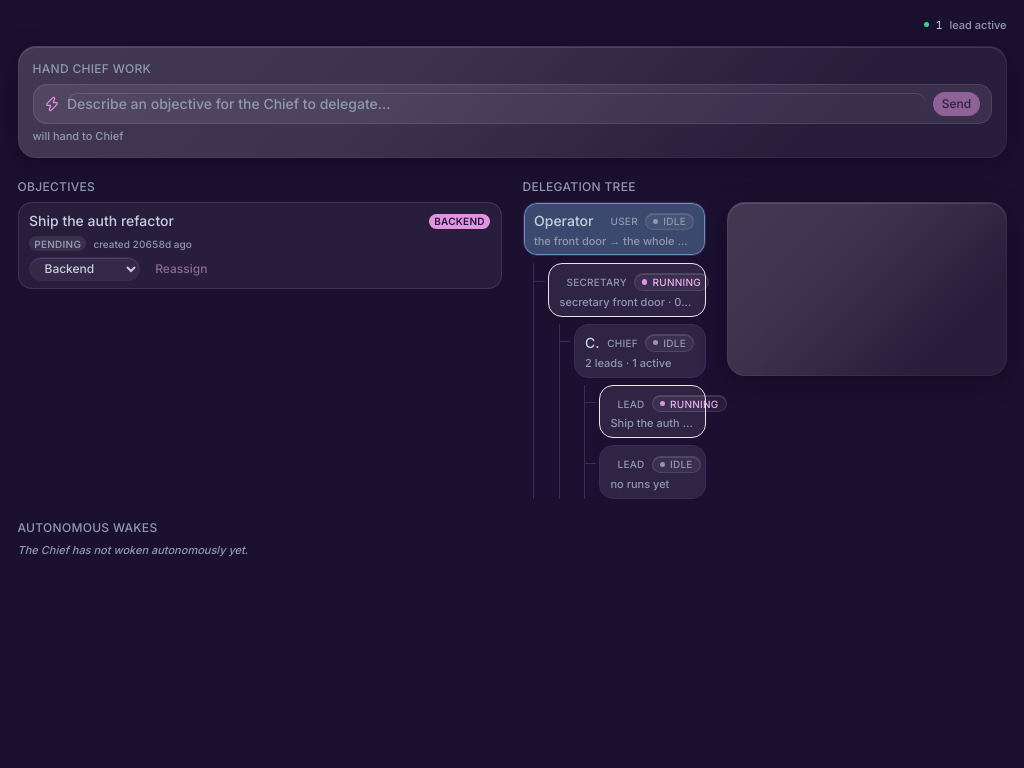
Test: ChiefPage — reassign flow › a 409 surfaces inside the dialog instead of silently failing
Expected: the element with test id "chief-objective-a1" is shown, [18,202,502,289]
Select "Systems" in the dropdown with test id "chief-reassign-select-a1" at (84,269), box [29,256,140,281]
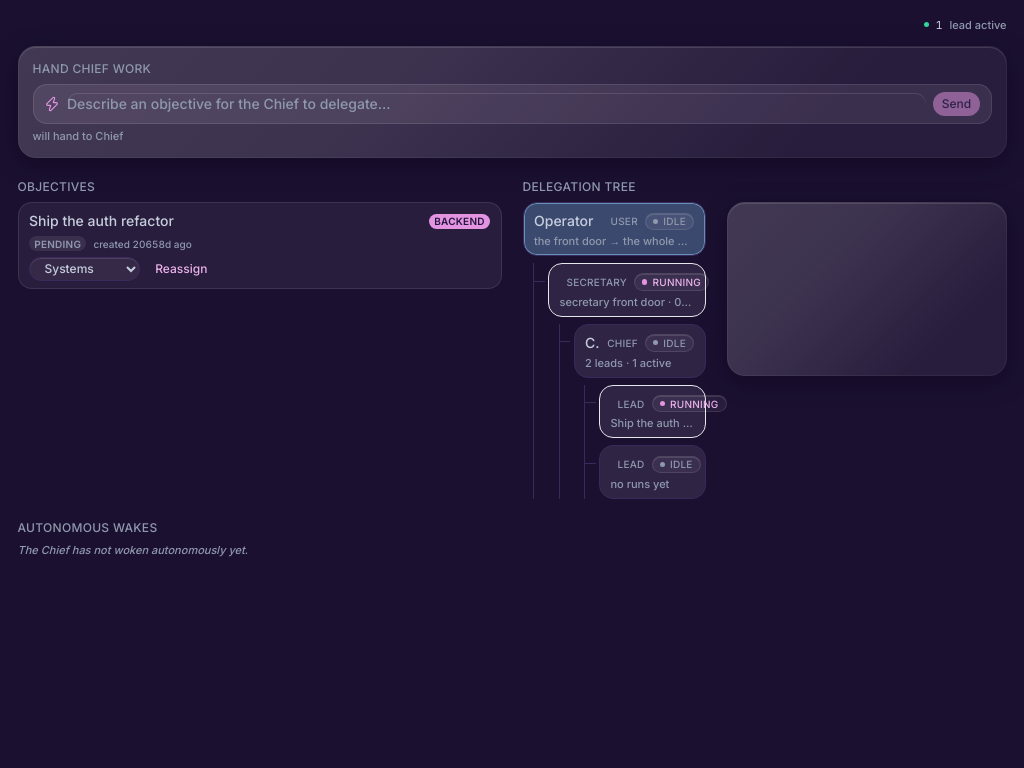
Click the button with test id "chief-reassign-a1" at (181,269), box [146,256,216,281]
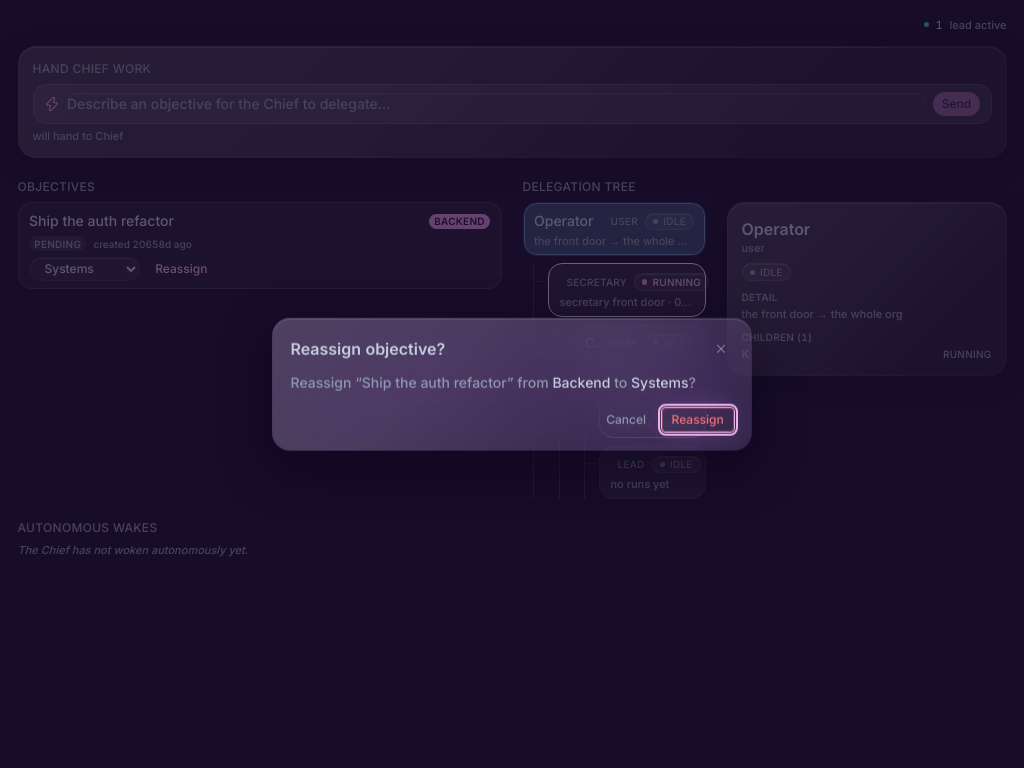
Click the button with test id "chief-reassign-dialog-confirm" at (698,420), box [662,407,734,432]
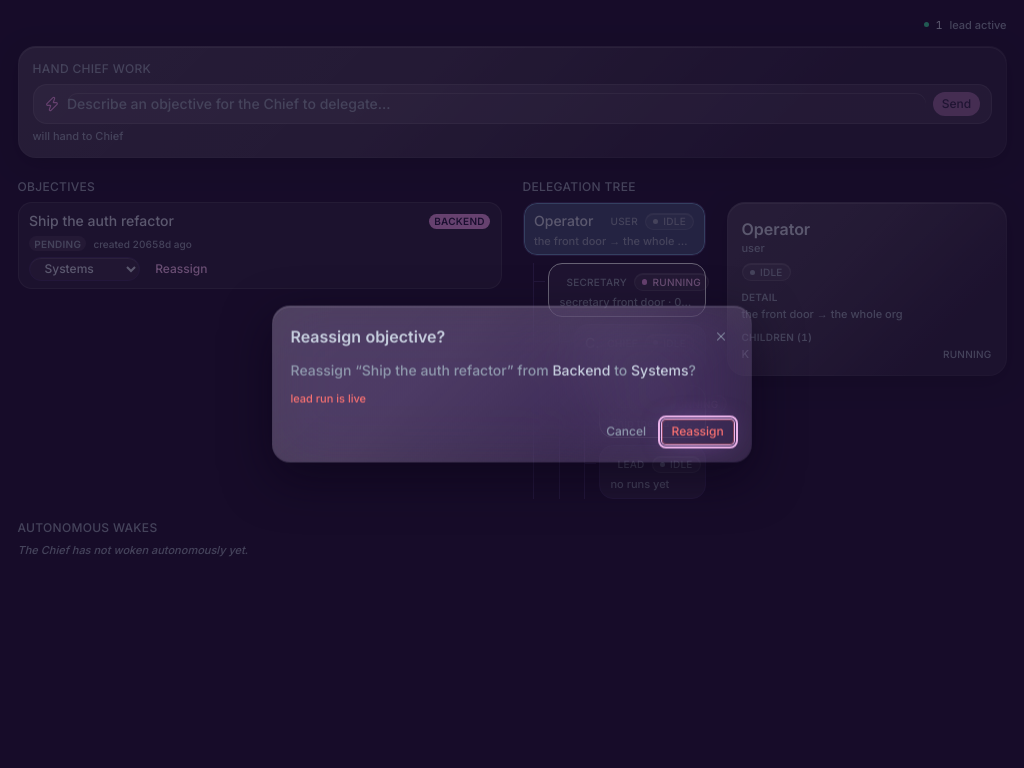
Expected: the element with test id "chief-reassign-dialog" is shown, [290,359,734,406]
Expected: the text with test id "chief-reassign-dialog-error" reads "lead run is live", [290,392,366,406]
